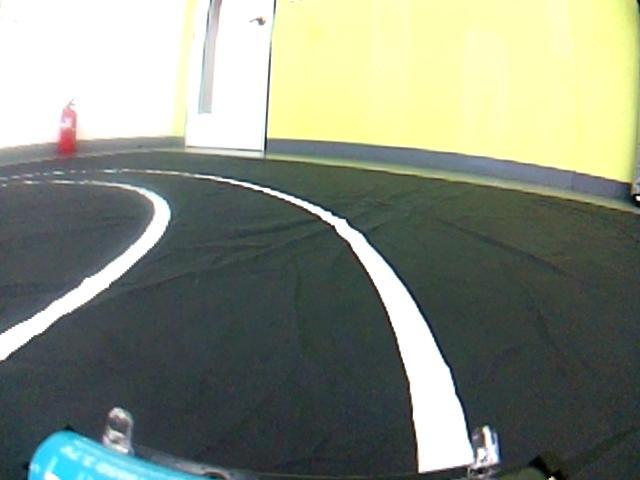left: (0, 205, 584, 468)
